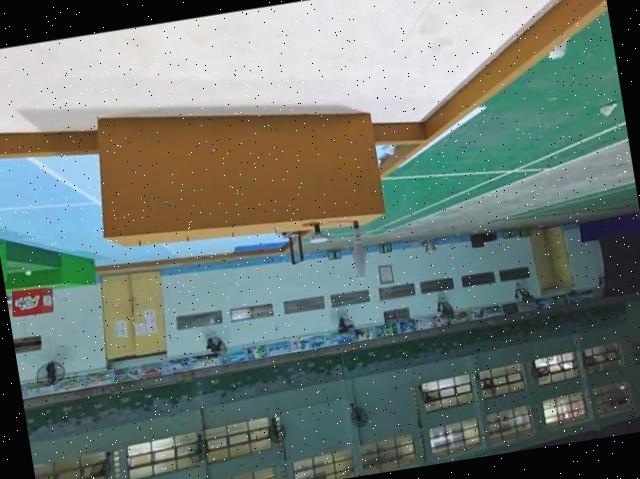Hand: (307, 222, 327, 245)
Sph: (344, 216, 369, 279)
